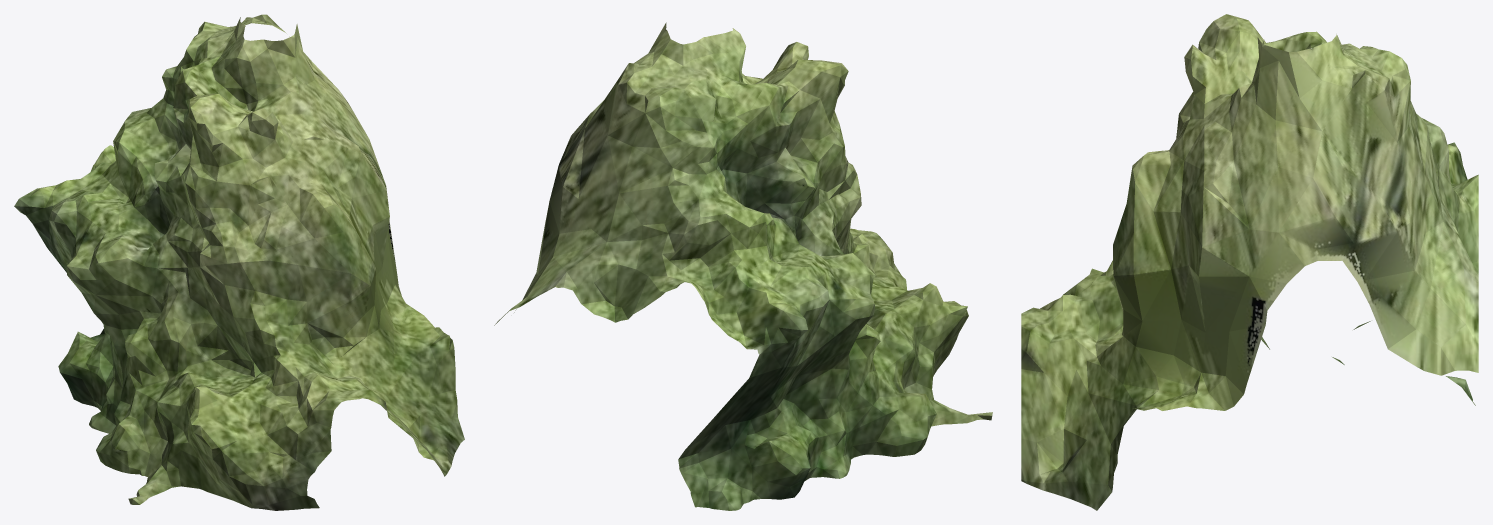
The picture shows the model from 3 angles, left to right: view 1: azimuth 30°, elevation 25°; view 2: azimuth 150°, elevation 25°; view 3: azimuth 270°, elevation 25°; orthographic projection. The views are drawn at different scales.
Size of the model in its own units: 5.27 by 5.9 by 5.9.
Materials: 5 (5 with a texture image).
